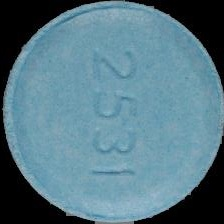43353-277: (0, 0, 224, 224)
